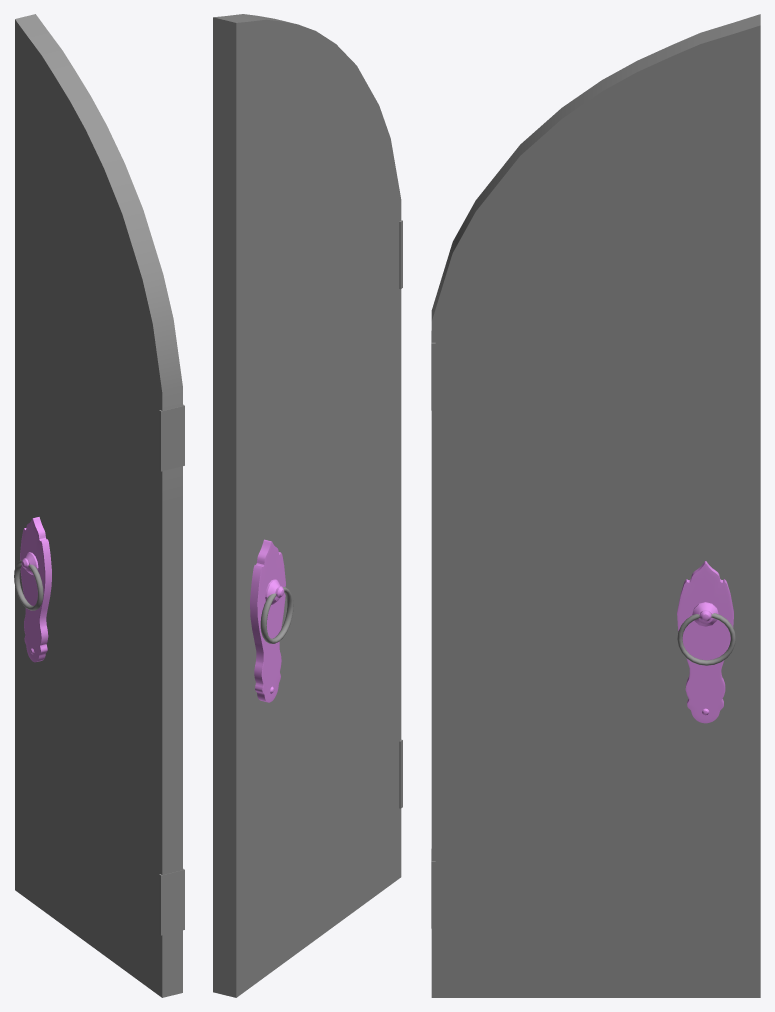
The model's file is SM_CastleEntranceDoor_A_001.FBX.
The picture shows the model from 3 angles, left to right: view 1: azimuth 30°, elevation 25°; view 2: azimuth 150°, elevation 25°; view 3: azimuth 270°, elevation 25°; orthographic projection. The views are drawn at different scales.
Parts seen in each view (by area): view 1: SM_CastleEntranceDoor_A_001; view 2: SM_CastleEntranceDoor_A_001; view 3: SM_CastleEntranceDoor_A_001.
Boxes of the visible parts, x1,y1,x2,y2 form: SM_CastleEntranceDoor_A_001: [14, 14, 184, 997]; SM_CastleEntranceDoor_A_001: [213, 14, 402, 997]; SM_CastleEntranceDoor_A_001: [431, 14, 760, 997].
Size of the model in its own units: 17.53 by 273 by 83.68.
